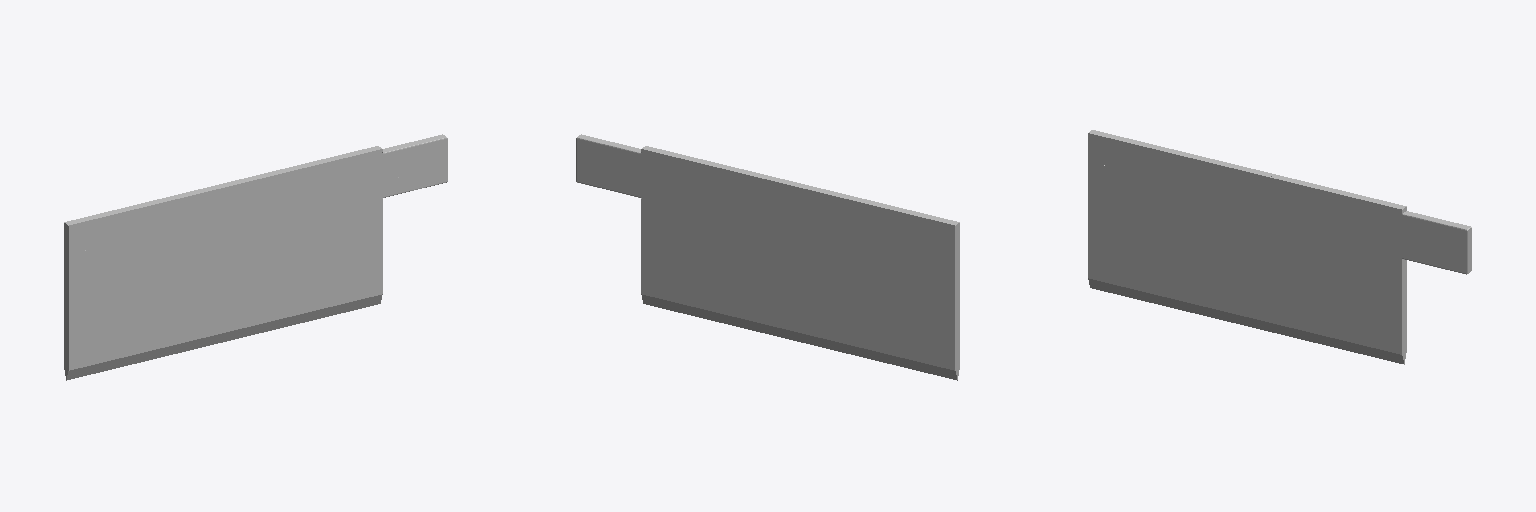
The model's file is lock.obj.
3 views of the same model, side by side, from view 1: azimuth 30°, elevation 25°; view 2: azimuth 150°, elevation 25°; view 3: azimuth 330°, elevation 25° (orthographic).
Parts seen in each view (by area): view 1: Cube.001; view 2: Cube.001; view 3: Cube.001.
Boxes of the visible parts, <box> form: Cube.001: <box>64,134,447,380</box>; Cube.001: <box>576,134,959,380</box>; Cube.001: <box>1088,130,1471,364</box>.
Size of the model in its own units: 205 by 80.97 by 4.2.